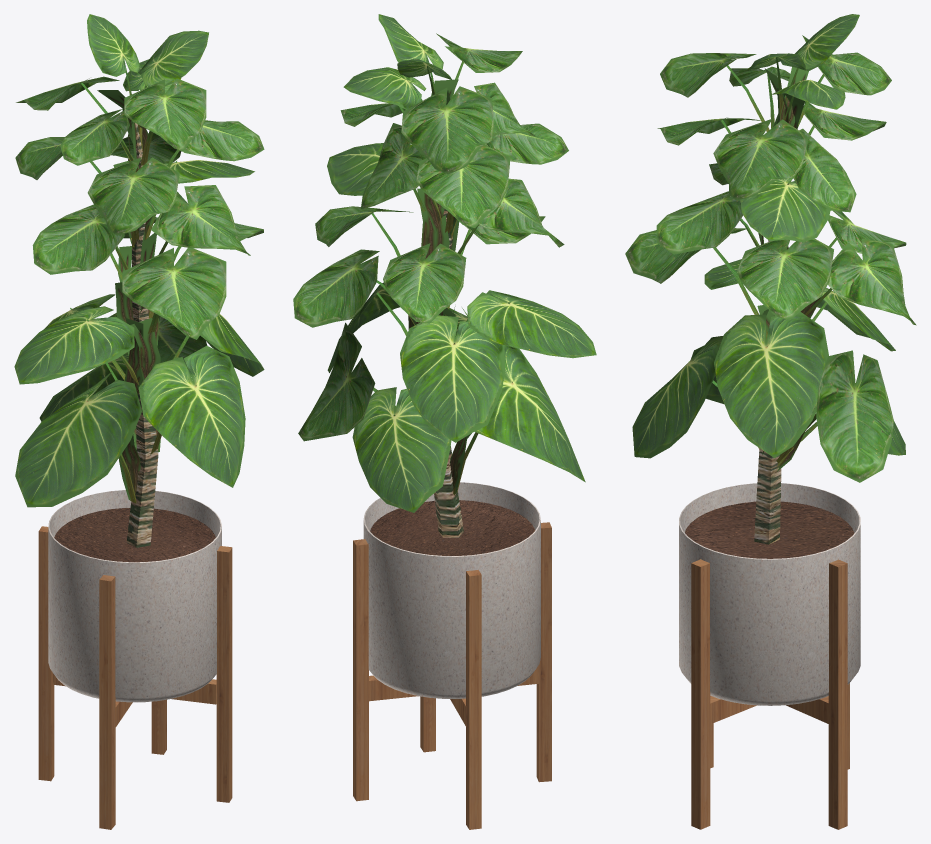
Rendered from MSH_Maceta_1.FBX.
The picture shows the model from 3 angles, left to right: view 1: azimuth 30°, elevation 25°; view 2: azimuth 150°, elevation 25°; view 3: azimuth 270°, elevation 25°; orthographic projection. The views are drawn at different scales.
Visible parts, largest first — view 1: MSH_Maceta_1; view 2: MSH_Maceta_1; view 3: MSH_Maceta_1.
Boxes of the visible parts, x1,y1,x2,y2 form: MSH_Maceta_1: (14, 14, 264, 829); MSH_Maceta_1: (293, 14, 596, 829); MSH_Maceta_1: (625, 14, 916, 829).
Bounding box in the file's own units: 58.1 × 159 × 53.8.
